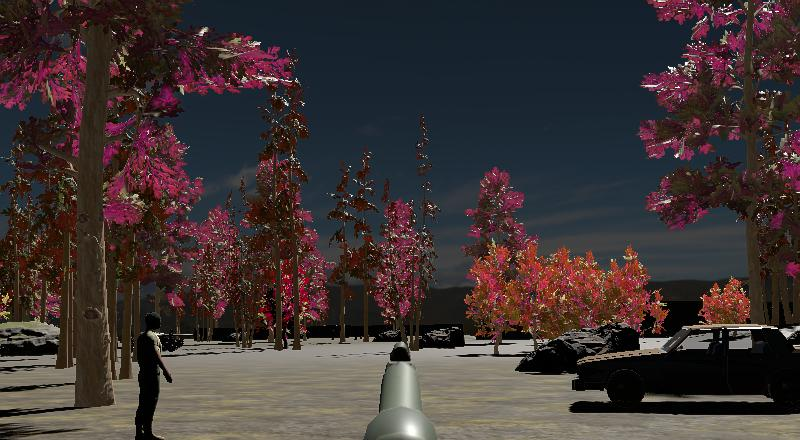car: (569, 321, 800, 411)
